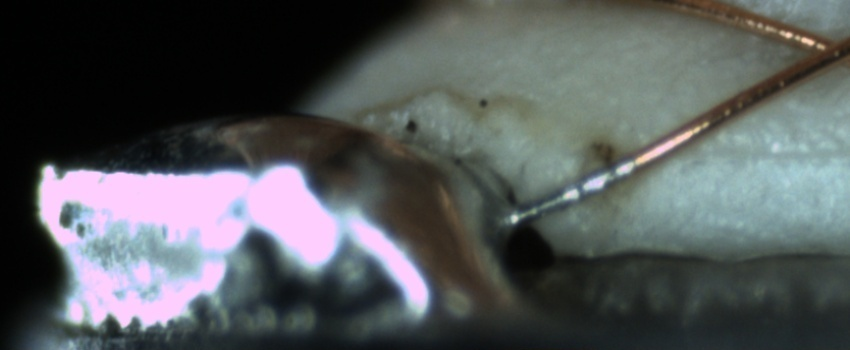CL: (770, 16, 850, 79)
DL: (699, 123, 849, 183)
TS: (515, 158, 638, 222)
